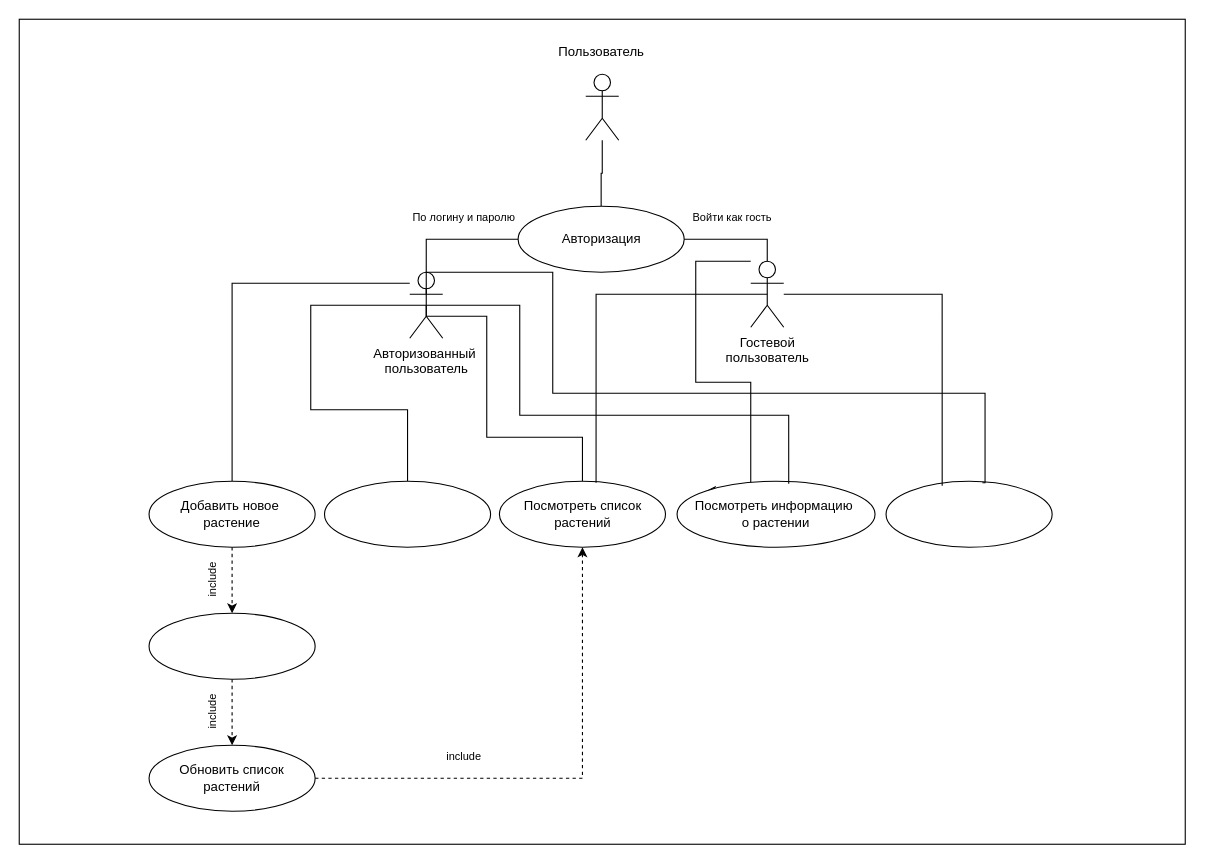
Image size: 1205x864. Some labels were removed from this diagram. Here are the shapes that lost their labels. From the top down, the centre of each, then its label:
At point 407,513: "Распознать растение с фотографии".
At point 968,513: "Посмотреть погоду".
At point 231,645: "Сохранить данные в БД".
